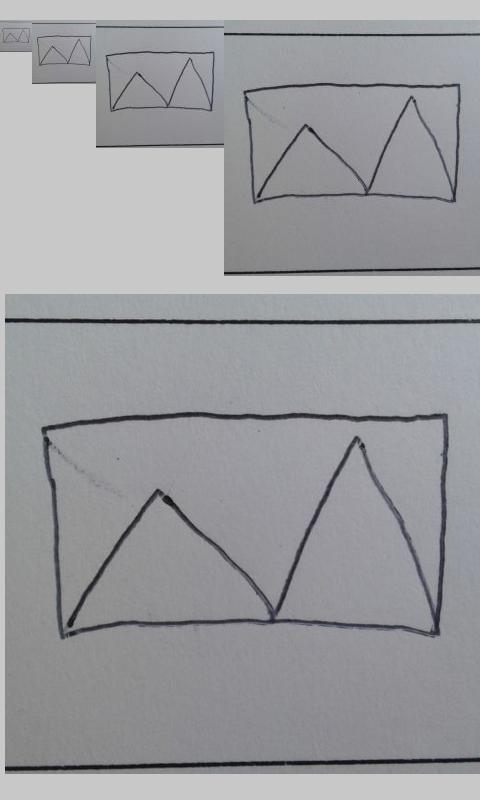image_view: (39, 412, 450, 640), (240, 80, 461, 206), (104, 51, 217, 112), (36, 35, 92, 66), (2, 27, 30, 44)
